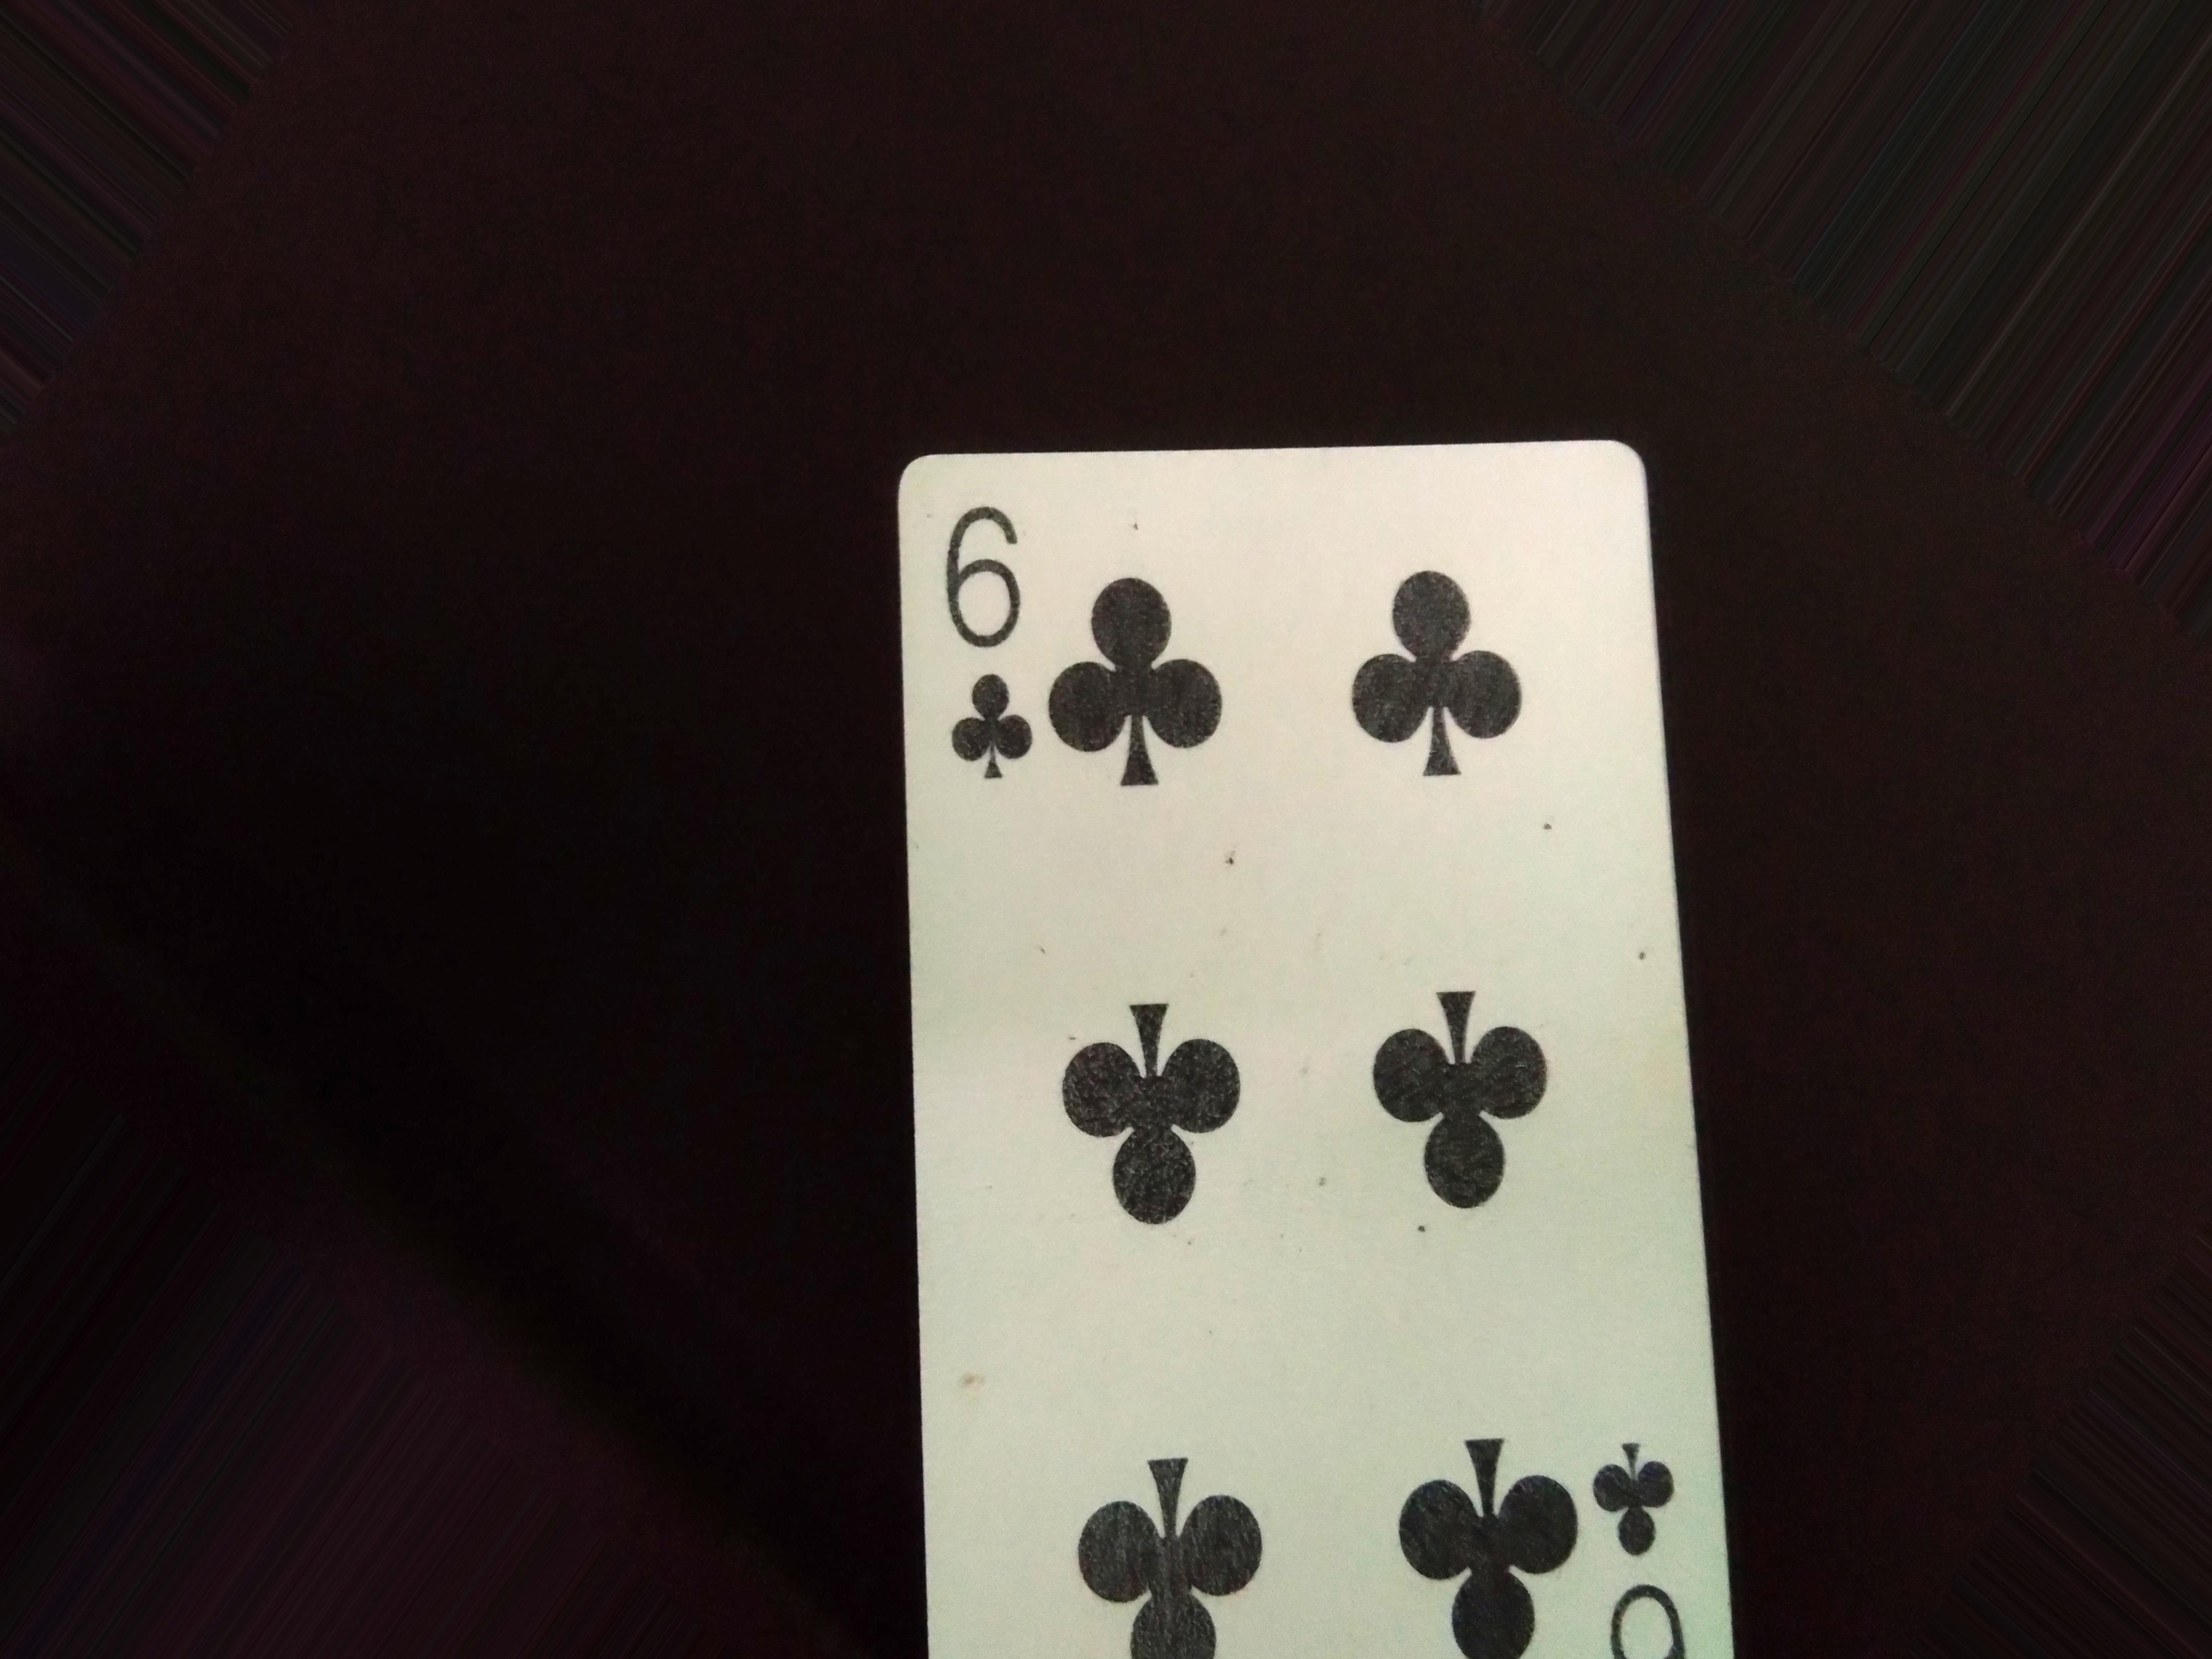6C: (934, 488, 1064, 814)
